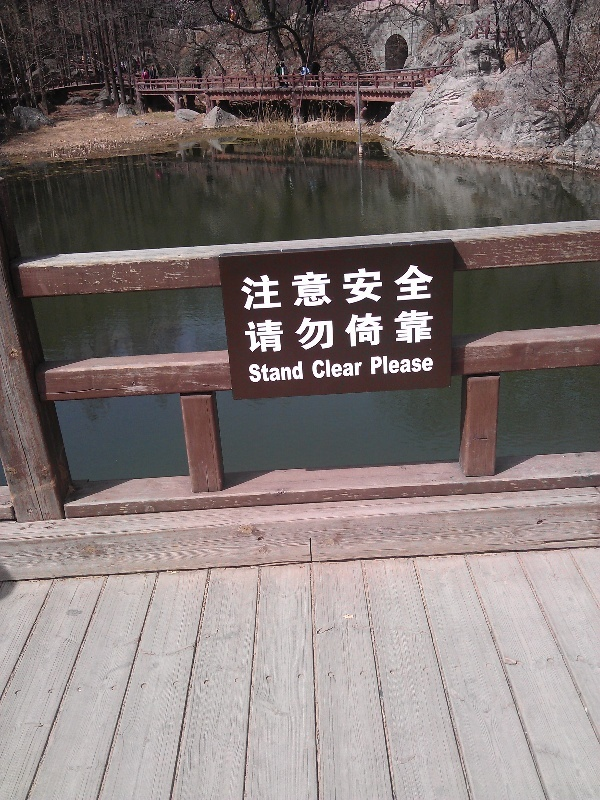text: (241, 264, 256, 312), (257, 264, 272, 312), (273, 264, 288, 312), (289, 264, 304, 312), (305, 264, 320, 312), (321, 264, 336, 312), (337, 264, 352, 312), (353, 264, 368, 312), (369, 264, 384, 312), (385, 264, 400, 312), (401, 264, 416, 312), (417, 264, 432, 312), (257, 309, 272, 354), (273, 309, 288, 354), (289, 309, 304, 354), (305, 309, 320, 354), (321, 309, 336, 354), (337, 309, 352, 354), (353, 309, 368, 354), (369, 309, 384, 354), (385, 309, 400, 354), (401, 309, 416, 354), (417, 309, 432, 354), (243, 309, 256, 354), (385, 352, 400, 376), (401, 352, 416, 376), (417, 352, 432, 376), (257, 360, 272, 384), (273, 360, 288, 384), (289, 360, 304, 384), (321, 357, 336, 380), (337, 357, 352, 380), (370, 352, 384, 376), (353, 357, 364, 380), (311, 357, 320, 380), (248, 360, 256, 384), (238, 264, 240, 312), (433, 309, 435, 354), (433, 264, 434, 312), (433, 352, 434, 376), (305, 360, 306, 384)
